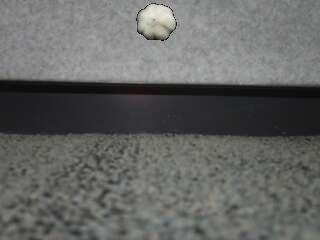Garlic: (136, 4, 178, 42)
